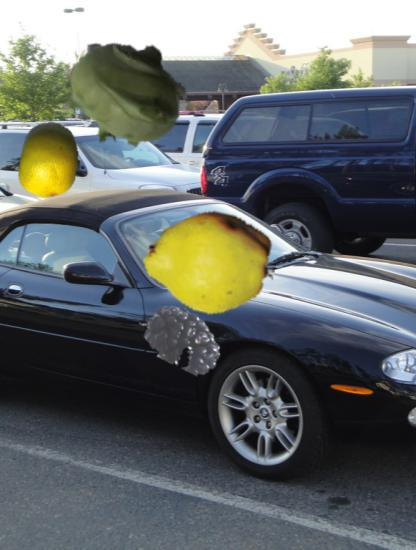Kohlrabi: (65, 33, 186, 154)
Mulberry: (140, 284, 232, 376)
Pomelo: (11, 122, 88, 199)
Quince: (144, 198, 275, 329)
